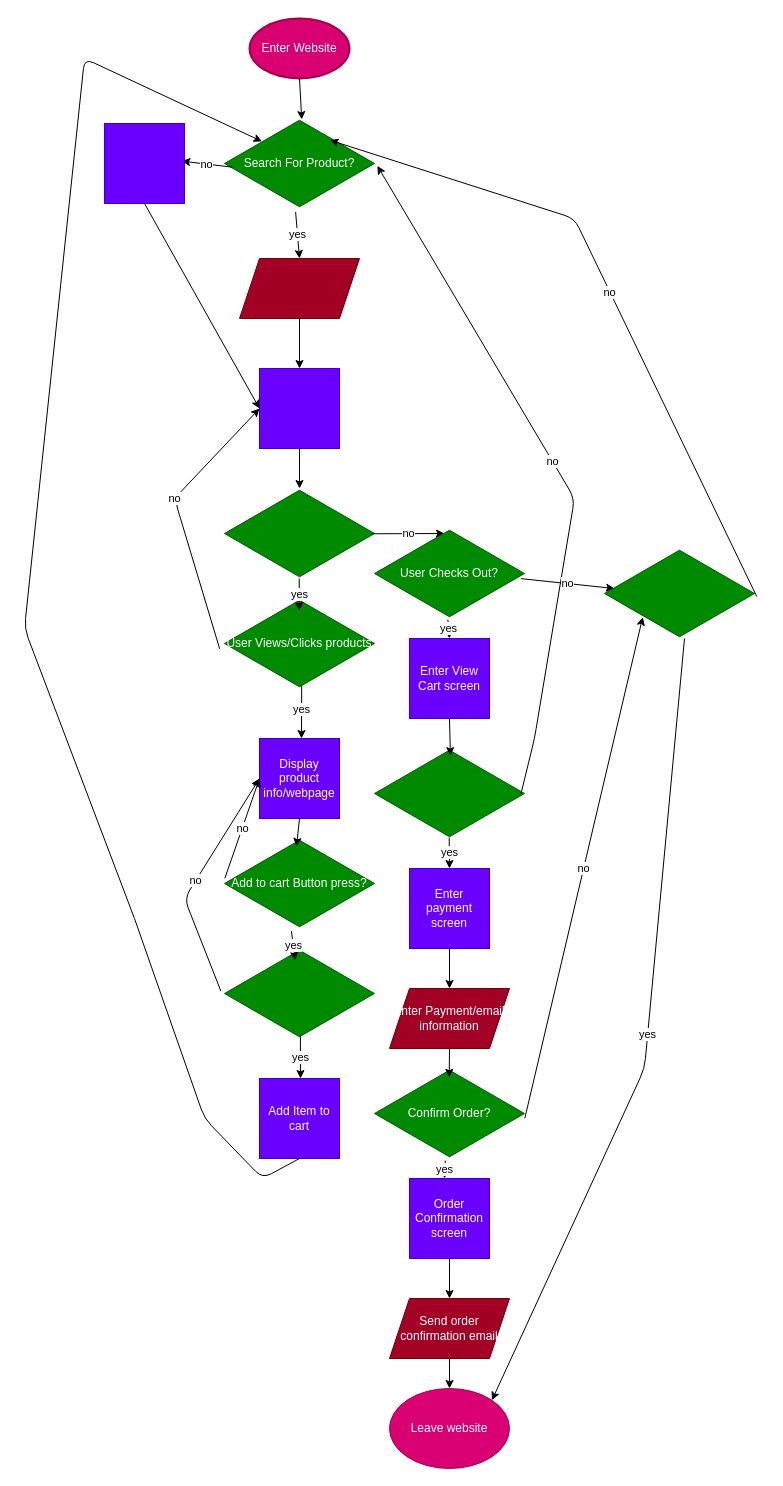
The diagram is 783 pixels wide and 1486 high, and some of its shapes have lost their labels. Here are the shapes that lost their labels. From the top down, the centre of each, then its label:
At pixel 144 163: "Display home page products".
At pixel 299 288: "Gather input data for search".
At pixel 299 408: "User Views products".
At pixel 299 533: "User continues shopping".
At pixel 679 593: "User leaves website?".
At pixel 449 793: "Continue to payment?".
At pixel 299 993: "Confirm Adding to cart?".
